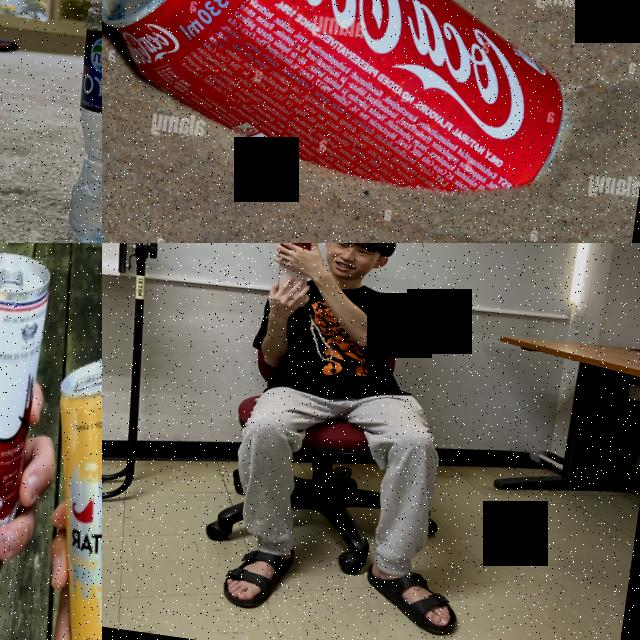bottle: (49, 0, 102, 243)
can: (102, 0, 595, 222), (21, 345, 102, 640), (0, 247, 54, 527)
